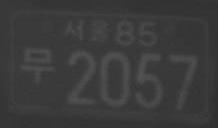0: (98, 48, 132, 110)
2: (64, 47, 99, 107)
5: (133, 50, 165, 111), (137, 18, 159, 48)
7: (166, 50, 202, 111)
8: (114, 17, 137, 47)
무: (19, 45, 55, 86)
서울_O: (62, 17, 111, 45)
